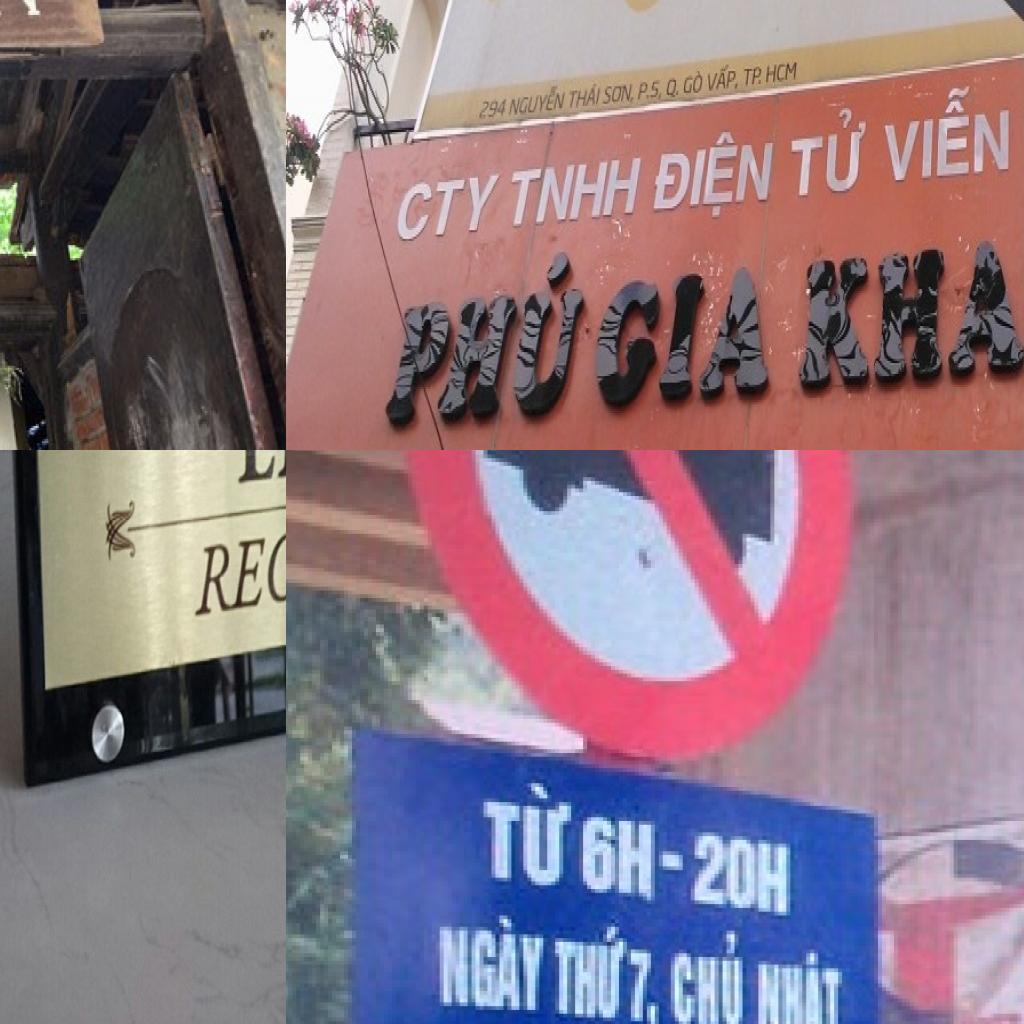text: (378, 236, 594, 444), (790, 212, 1024, 404), (589, 256, 780, 426), (881, 67, 1017, 193), (648, 123, 782, 226), (436, 904, 555, 1018), (505, 147, 651, 239), (480, 776, 579, 896), (392, 162, 507, 250), (691, 832, 794, 920), (790, 98, 872, 208), (666, 926, 750, 1024), (555, 920, 635, 1022), (583, 813, 663, 908), (754, 945, 850, 1024), (619, 946, 667, 1024), (743, 49, 802, 93), (232, 450, 286, 493), (508, 84, 570, 121), (706, 60, 744, 100), (566, 80, 604, 117), (476, 90, 511, 126), (603, 76, 637, 110), (636, 71, 664, 108), (682, 62, 706, 104), (666, 69, 682, 104)
